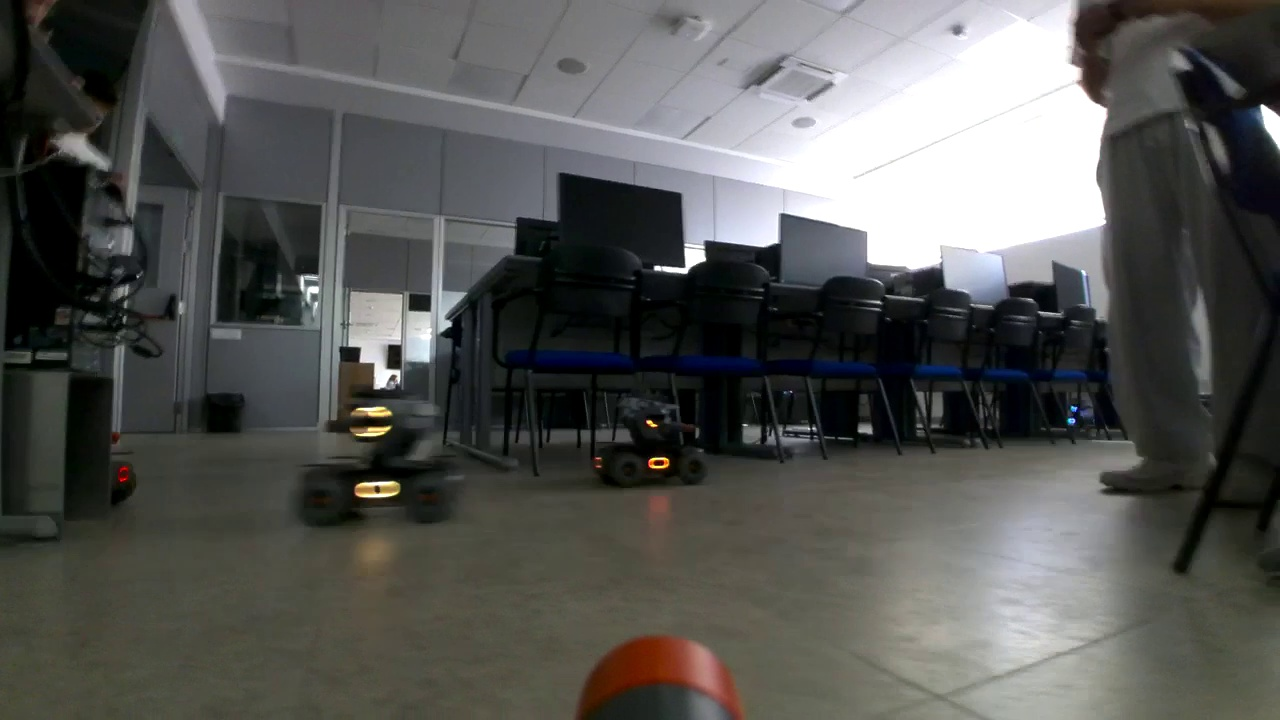robot: (293, 381, 454, 523), (591, 391, 709, 488)
